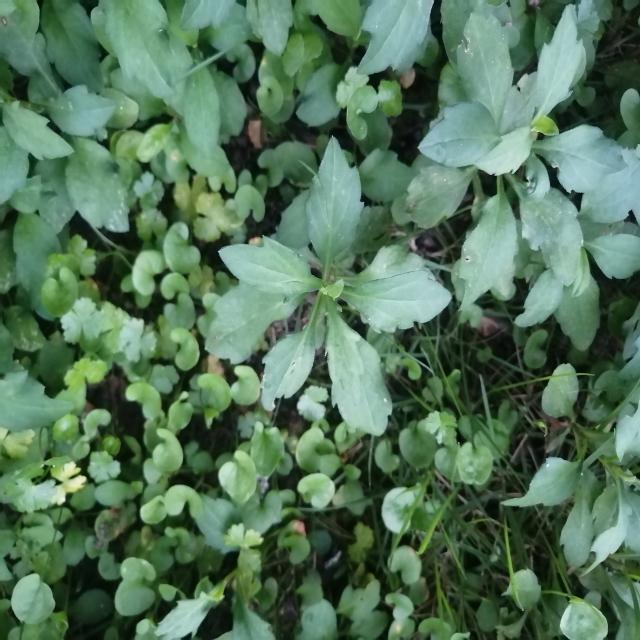Indian aster: (224, 148, 441, 435), (425, 20, 627, 318)
